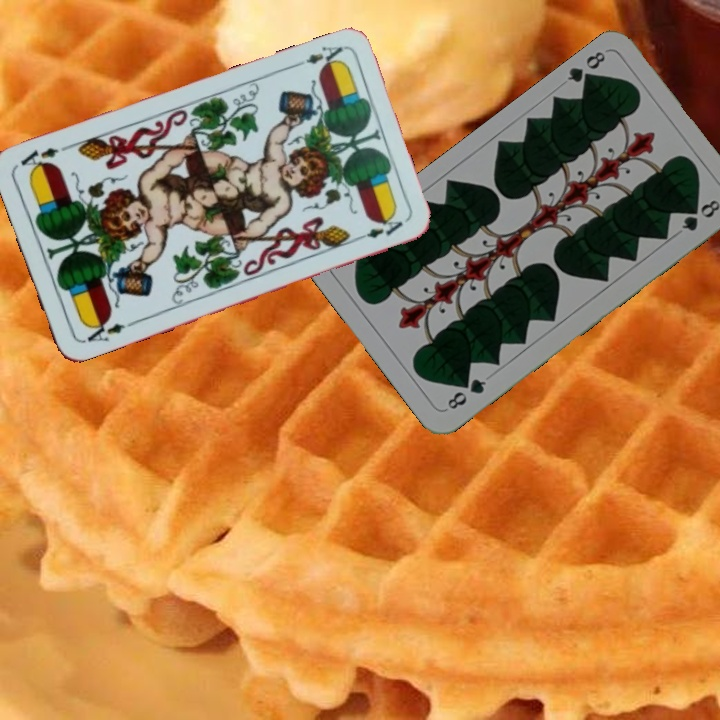EA: (289, 42, 347, 73), (78, 314, 128, 346)
G8: (563, 47, 608, 90), (443, 374, 489, 412)
